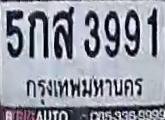1: (146, 8, 156, 56)
3: (83, 10, 99, 57)
5: (5, 9, 22, 57)
9: (104, 10, 119, 57), (124, 9, 139, 56)
A01: (28, 10, 47, 57)
A40: (52, 6, 73, 58)
BKK: (22, 73, 147, 105)
